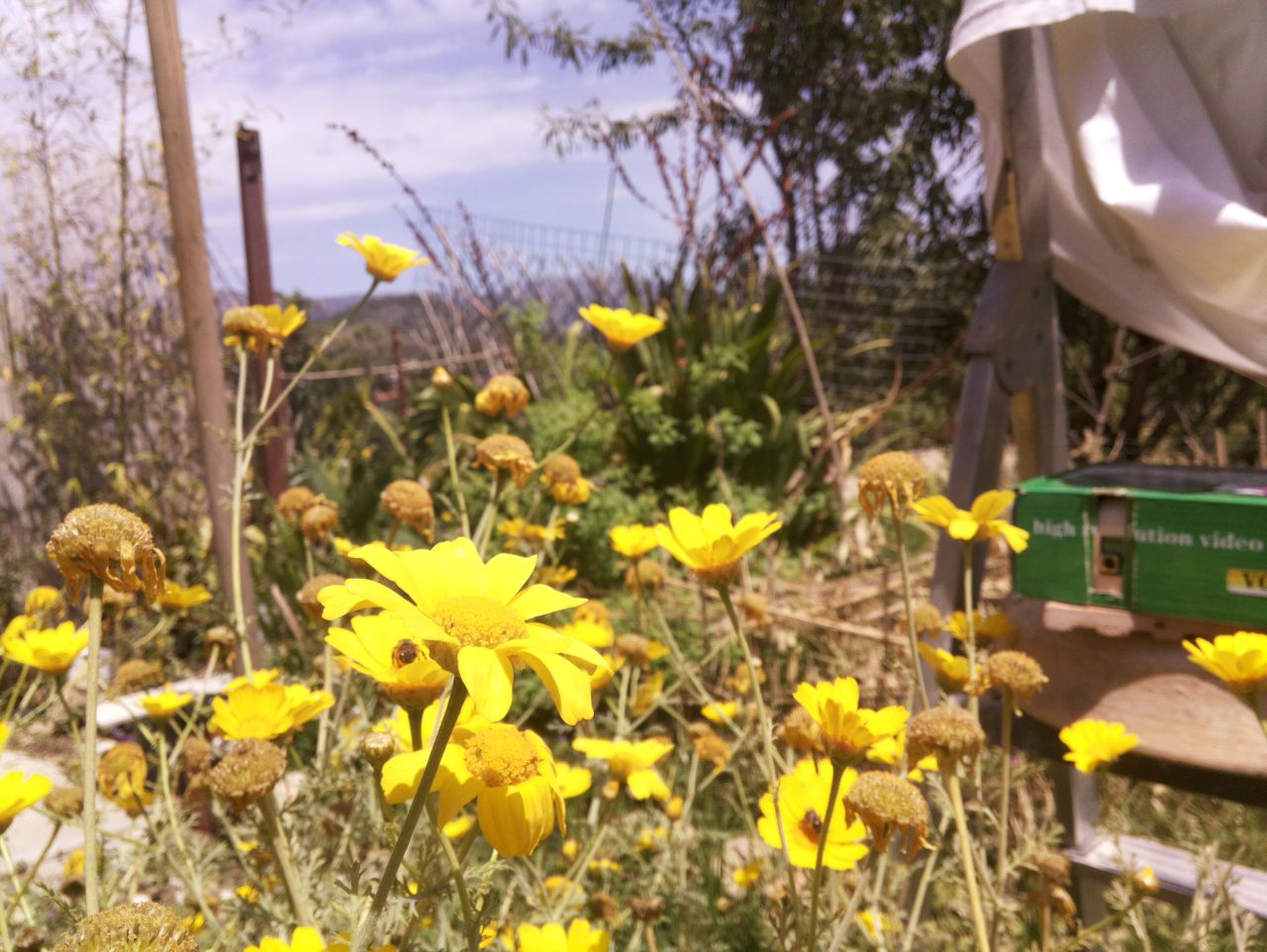Eucera: (388, 632, 434, 669)
Unidentified insect: (796, 805, 836, 838)
